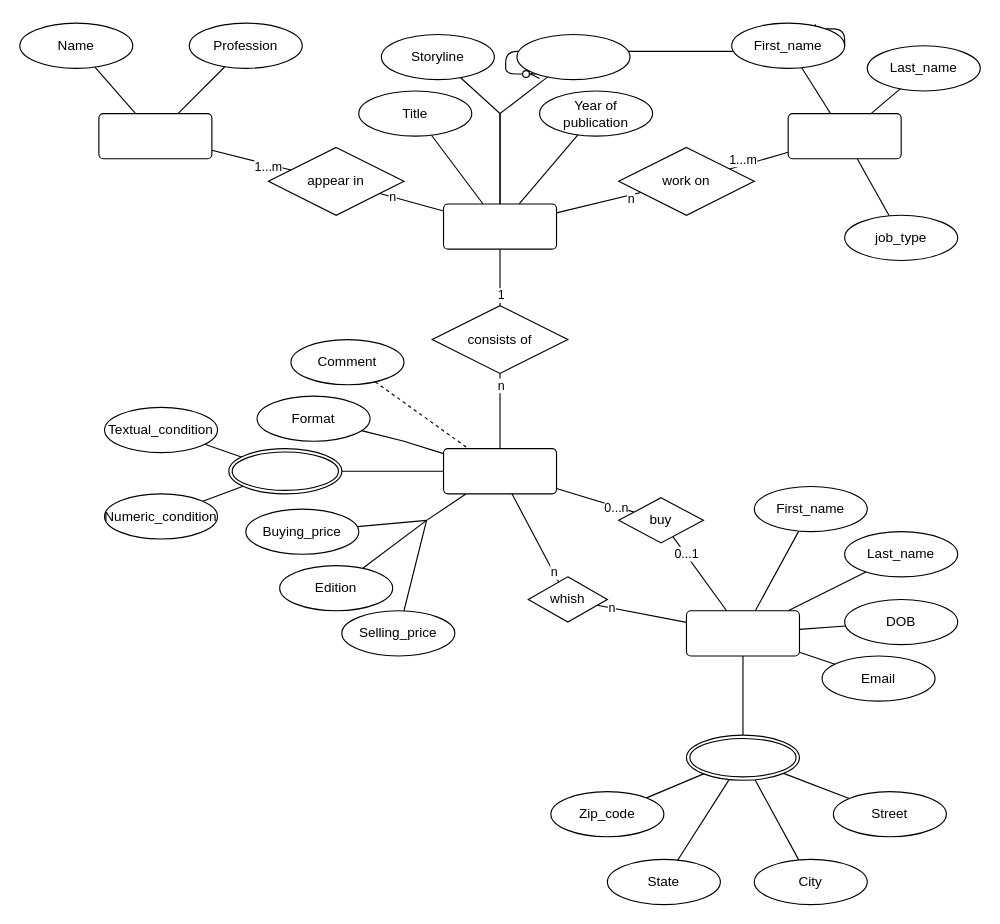
This 1000x924 diagram has some shape labels left out. Here are the shapes that lost their labels. From the top down, the box of each, then its label:
(516, 33, 630, 80): Publisher
(98, 112, 212, 159): characters
(787, 112, 901, 159): creators
(442, 203, 557, 249): Collectables
(228, 447, 342, 494): condition
(442, 447, 557, 494): Stock
(685, 610, 799, 656): Customers
(685, 734, 799, 780): Address
